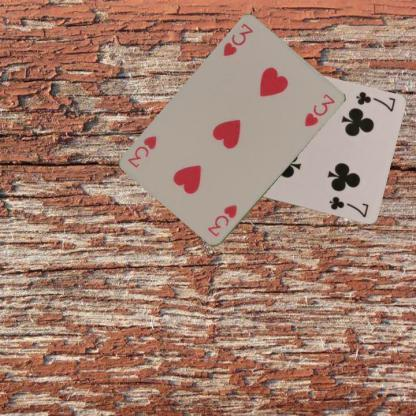3h: (219, 21, 254, 59), (204, 202, 238, 238)
7c: (352, 88, 396, 113)
